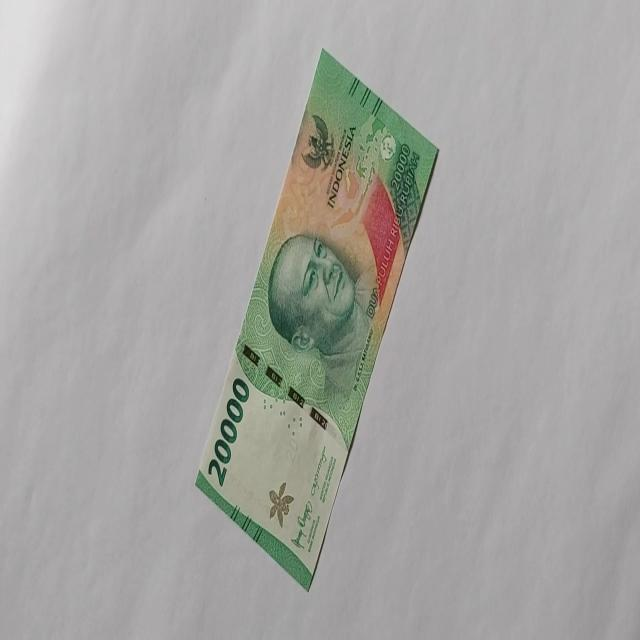dua puluh ribu rupiah: (193, 46, 440, 592), (266, 230, 374, 396)
